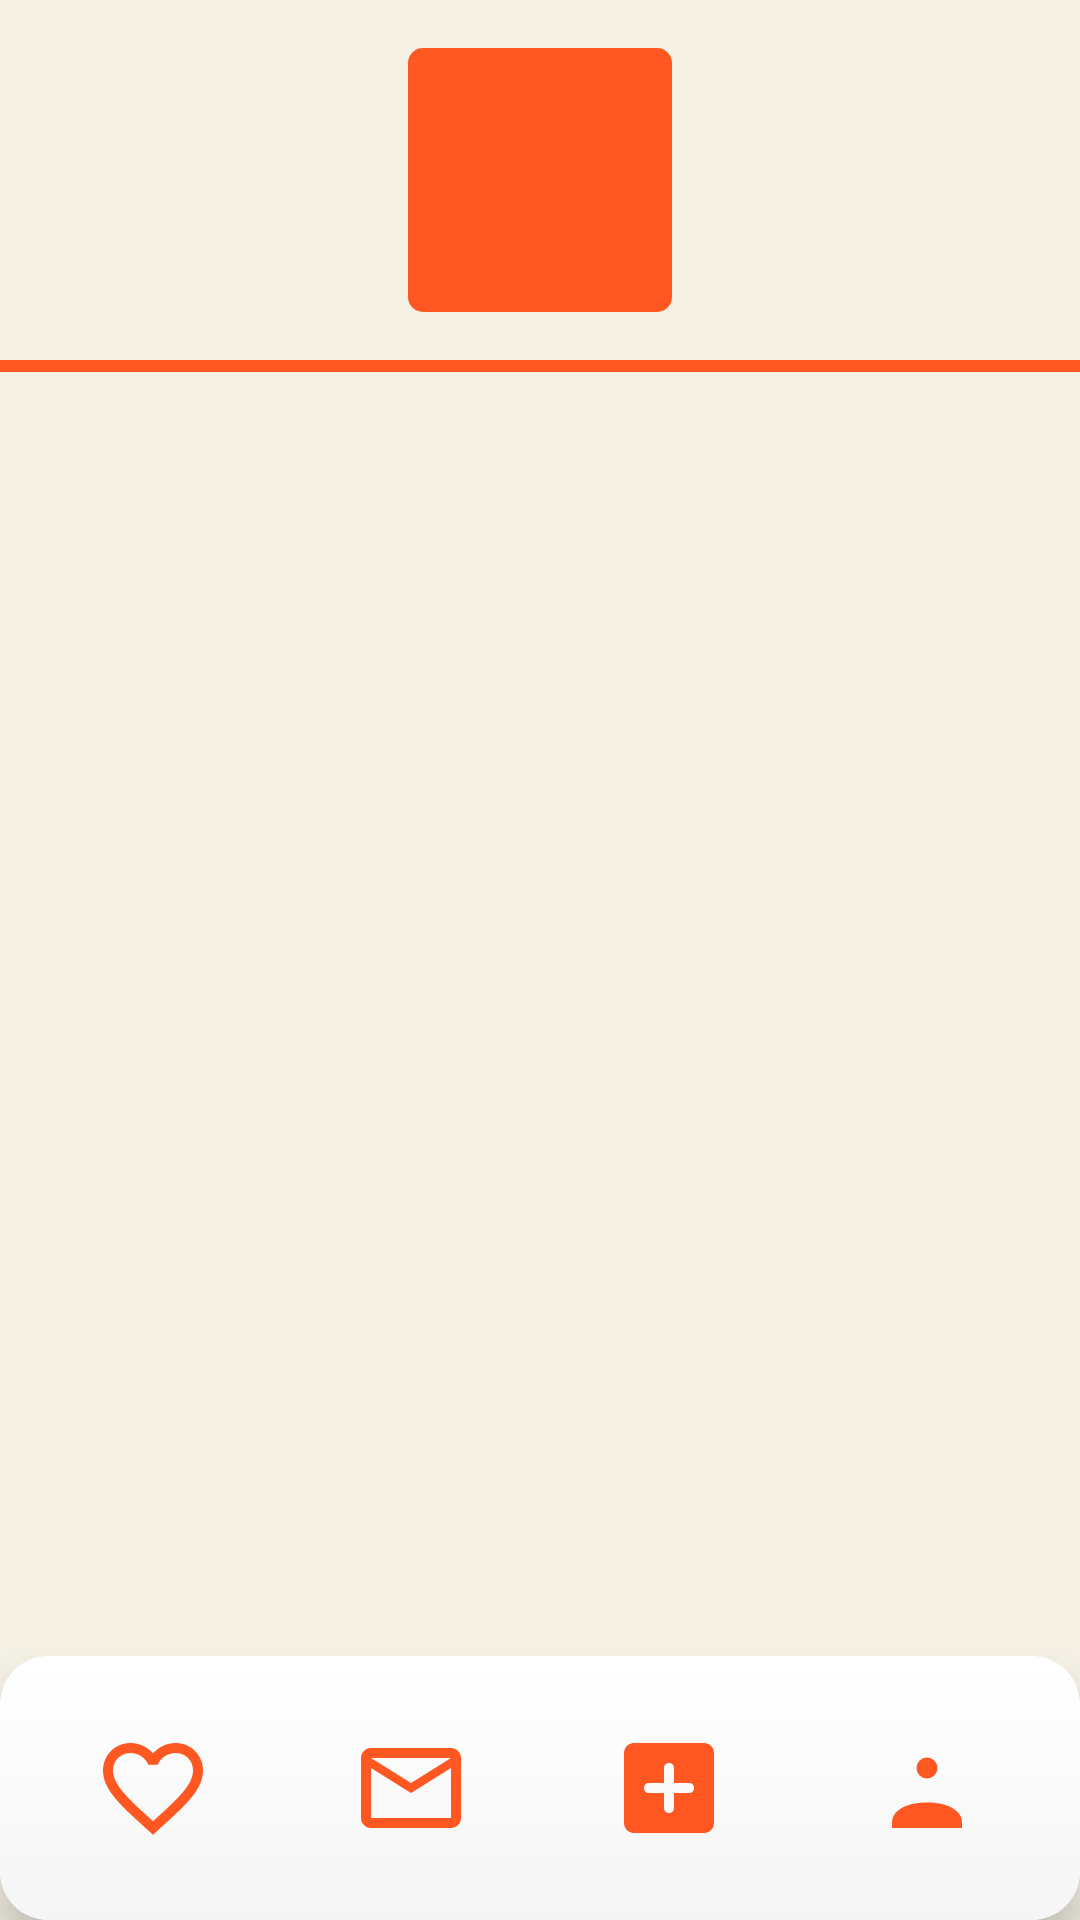

Icons on this 1080px×1920px Android screen, each with the point to tap as [x,y]:
Health: [669,1788]
Profile: [927,1792]
